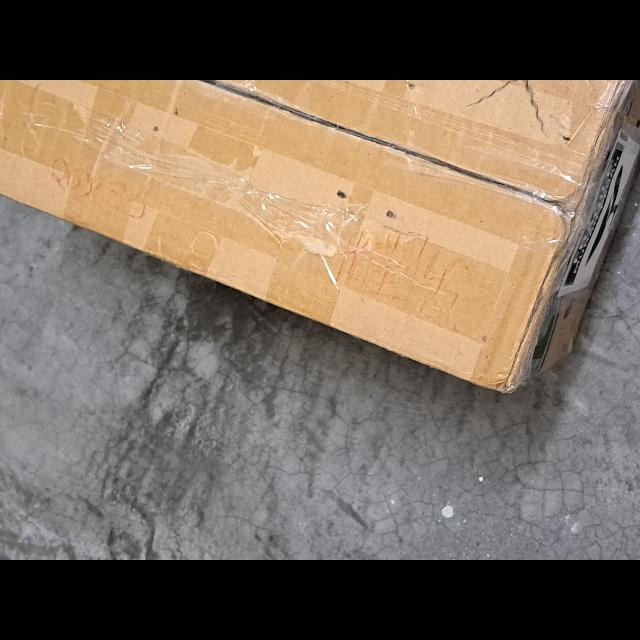papelão: (0, 80, 640, 390)
